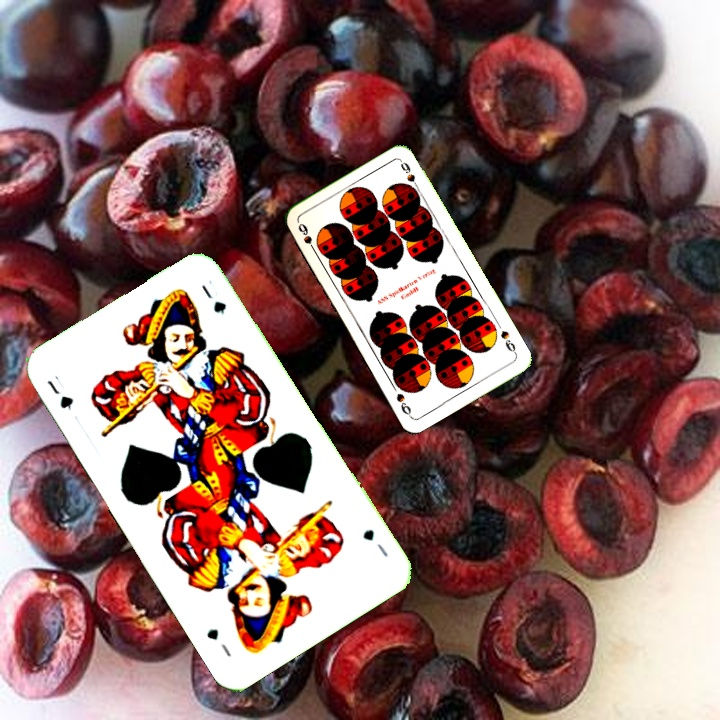GU: (43, 371, 76, 413), (359, 525, 391, 560)
S9: (294, 219, 323, 256), (497, 326, 520, 358)
